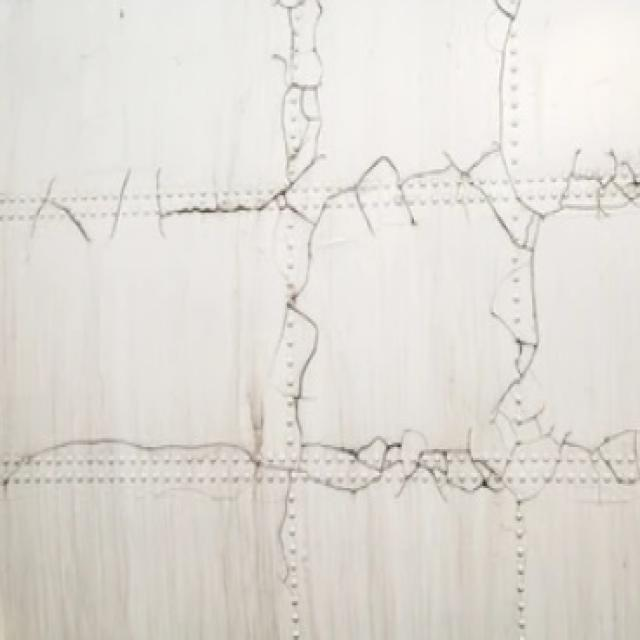crack: (15, 145, 640, 255), (5, 415, 640, 510), (261, 2, 331, 595), (490, 2, 560, 510)
